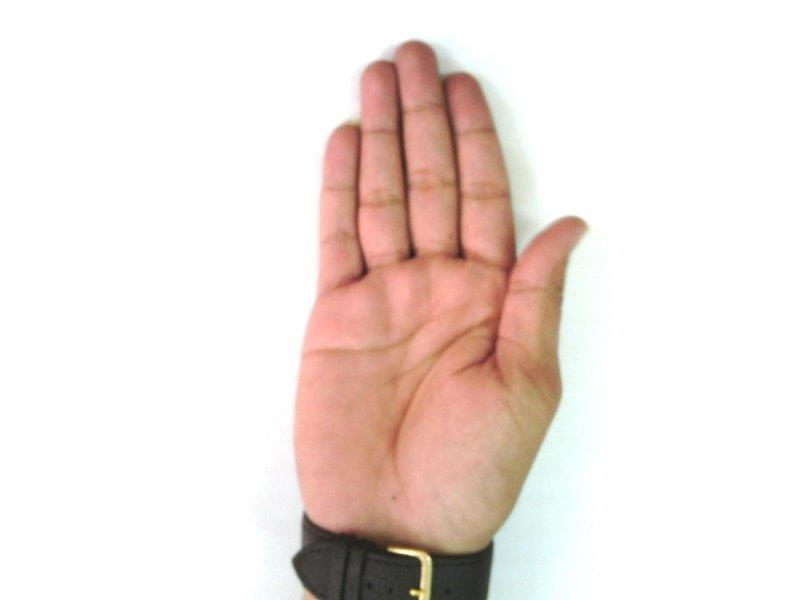hand: (295, 41, 587, 555)
